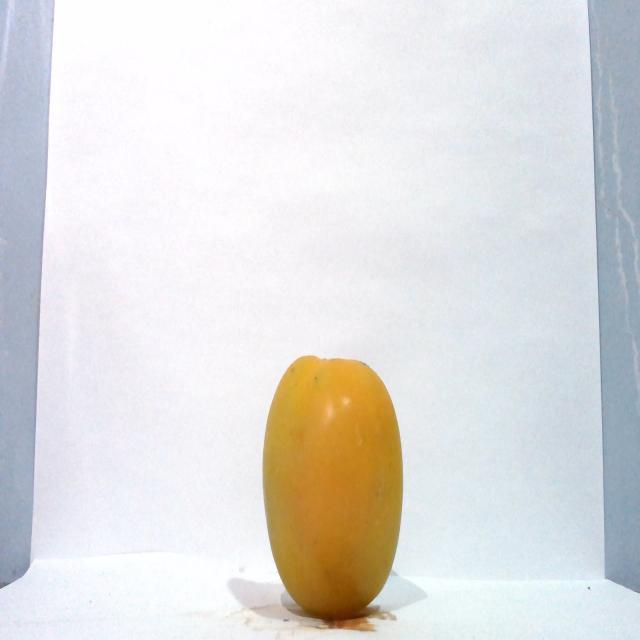Red: (260, 353, 404, 620)
